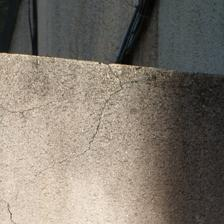Crack: (39, 71, 129, 174), (1, 99, 60, 122), (4, 200, 20, 224)
